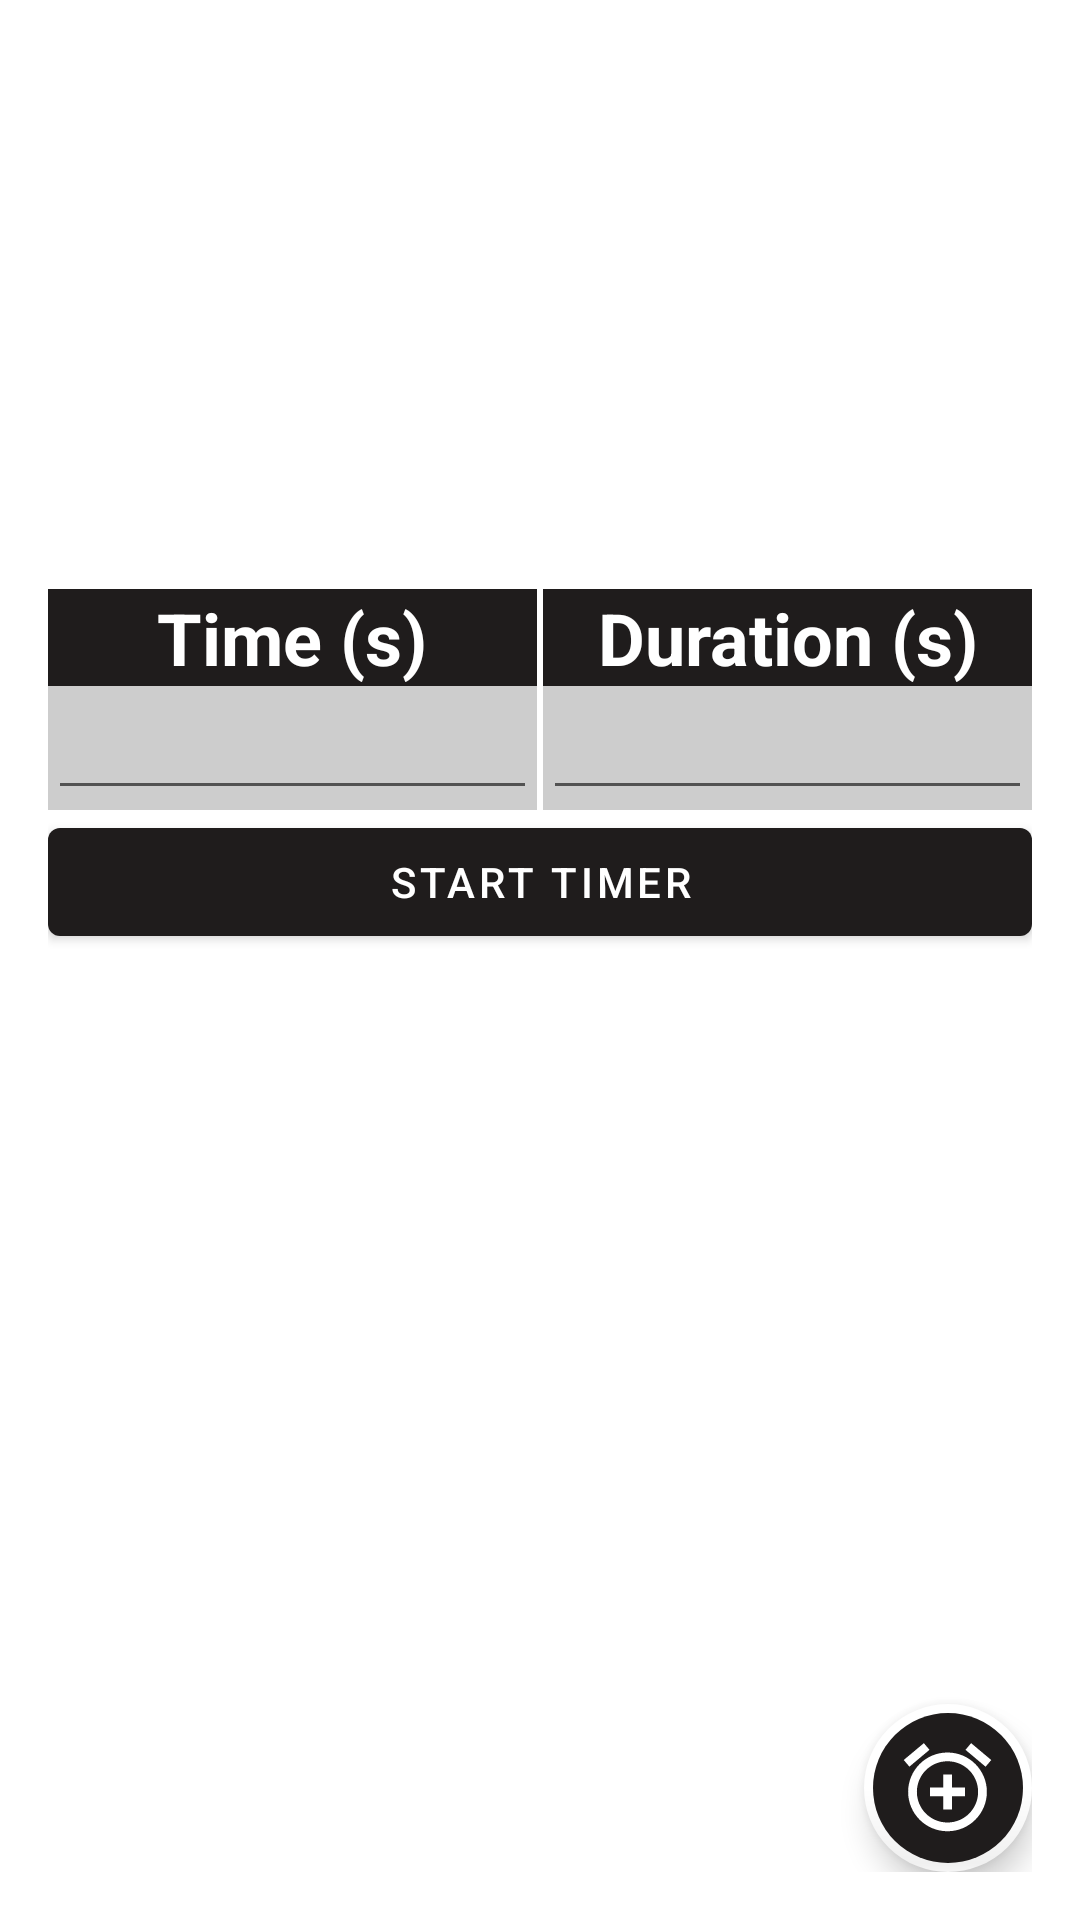

Icons on this 1080 x 1920 Android screen, each with its box as (x1, y1, x2, y2):
alarm add: (868, 1713, 1032, 1872)
